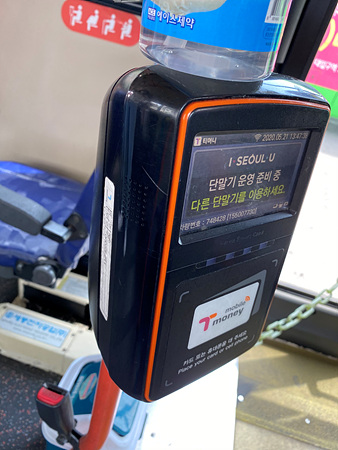terminal: (106, 60, 313, 389)
